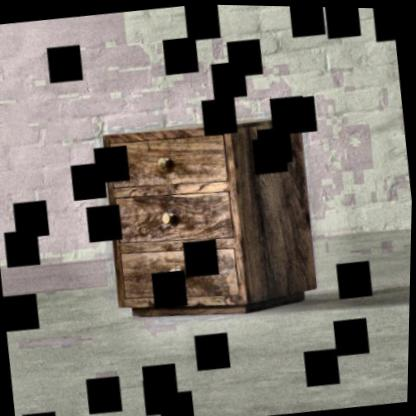Nightstand: (95, 108, 326, 329)
